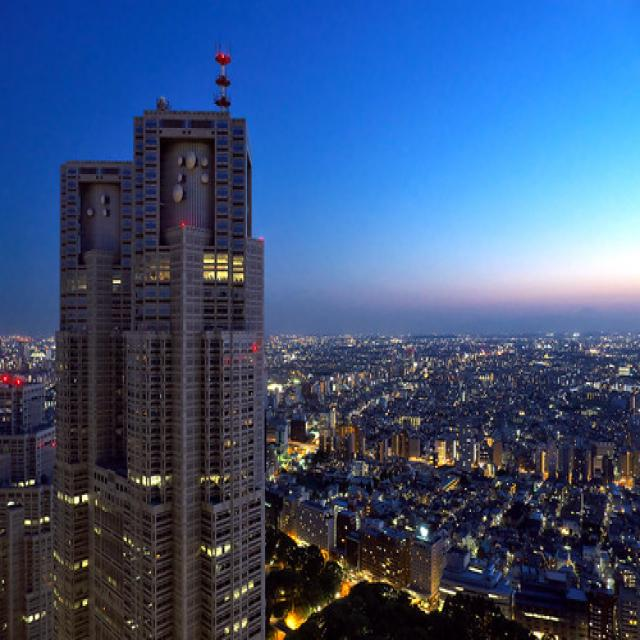Normal_building: (48, 96, 271, 632)
